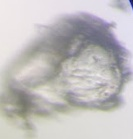microplastic: (1, 11, 132, 118), (1, 109, 37, 139), (107, 1, 128, 13)
